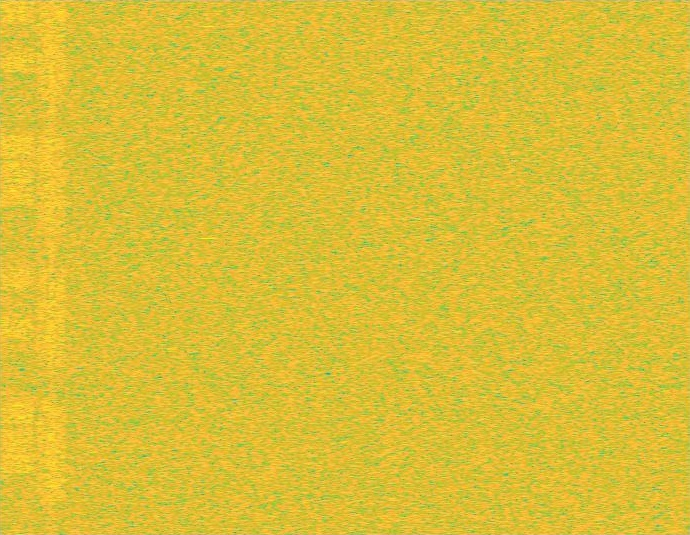5G: (35, 0, 69, 534)
DSSS: (48, 0, 56, 534)
LTE: (0, 0, 35, 534)
Radar: (202, 0, 216, 534)
